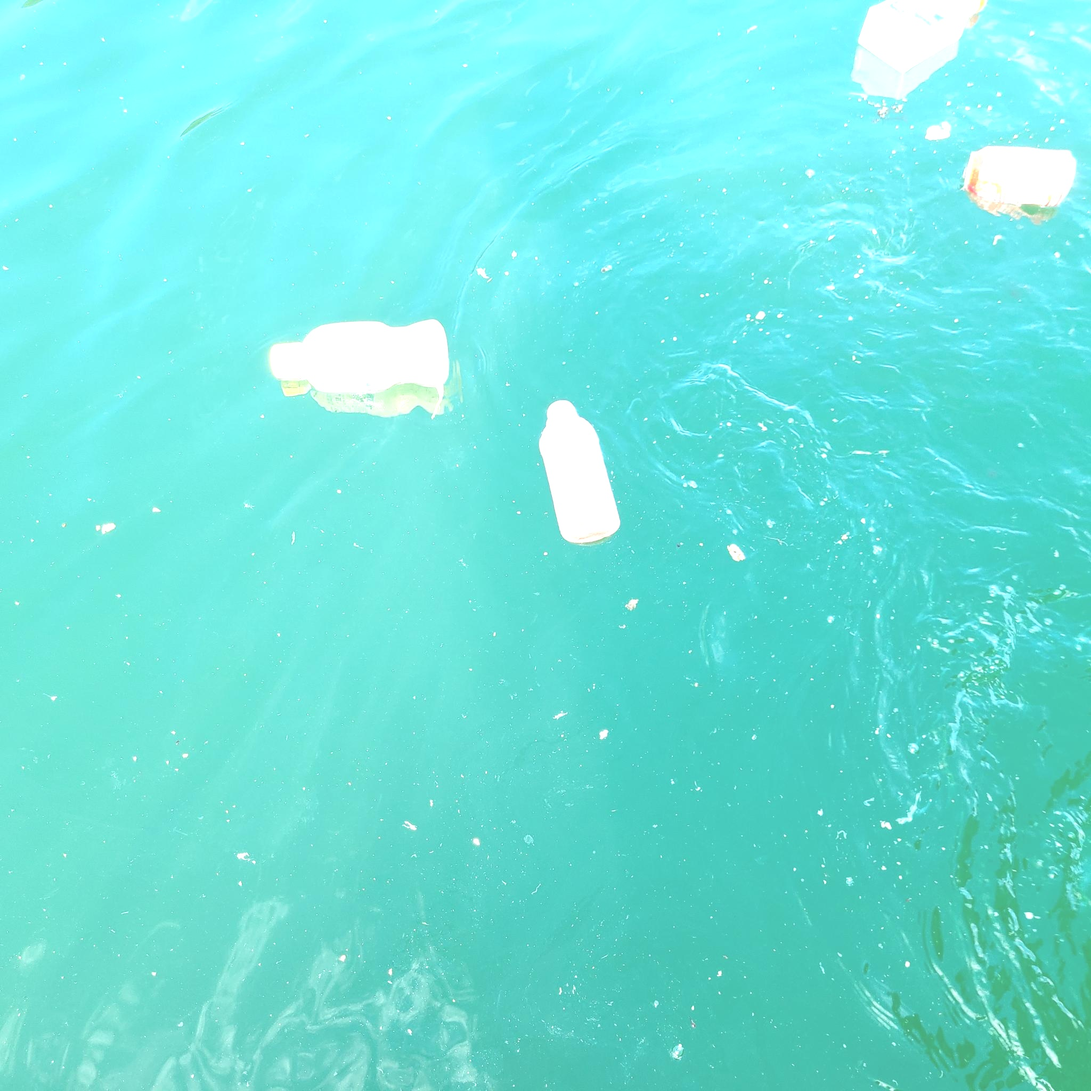sampah_terapung: (271, 320, 450, 394), (539, 400, 621, 544), (858, 1, 987, 74), (965, 146, 1077, 207), (926, 123, 952, 141)
